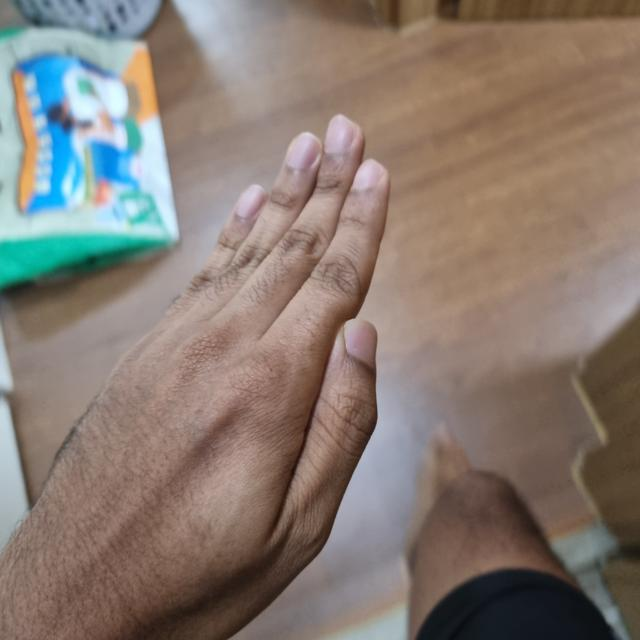Paper: (37, 122, 386, 632)
